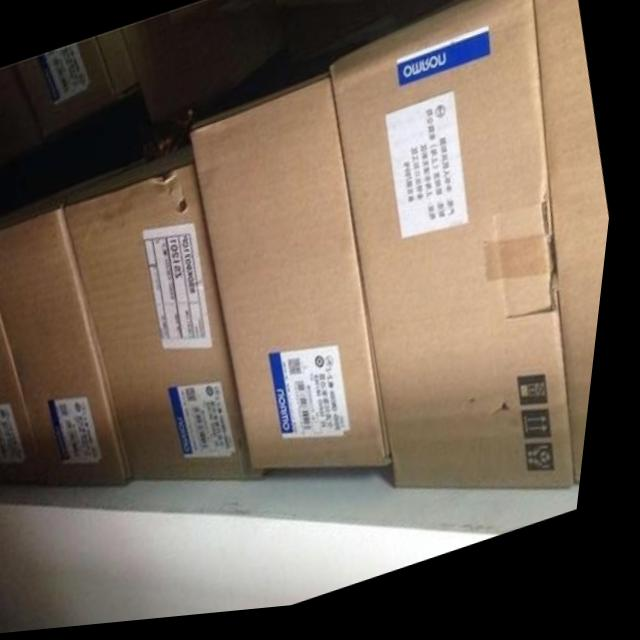box: (332, 0, 587, 500), (192, 77, 404, 475), (68, 150, 274, 485), (535, 0, 615, 498), (0, 210, 141, 490), (0, 288, 59, 487)
